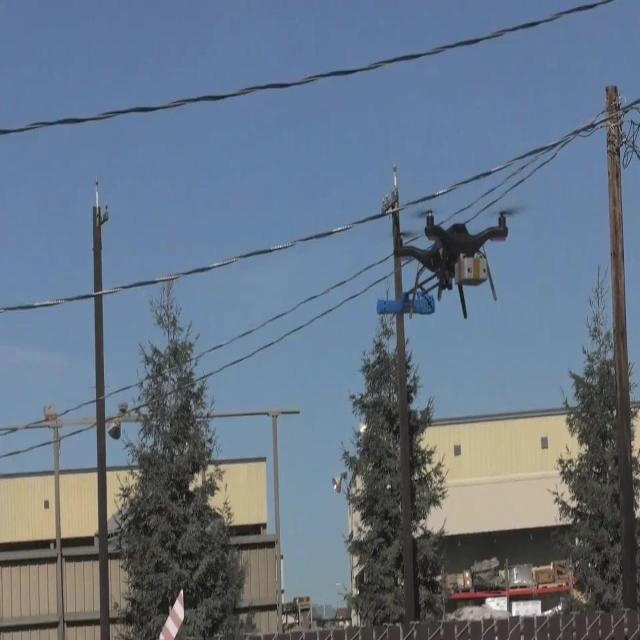drone: (376, 202, 518, 323)
